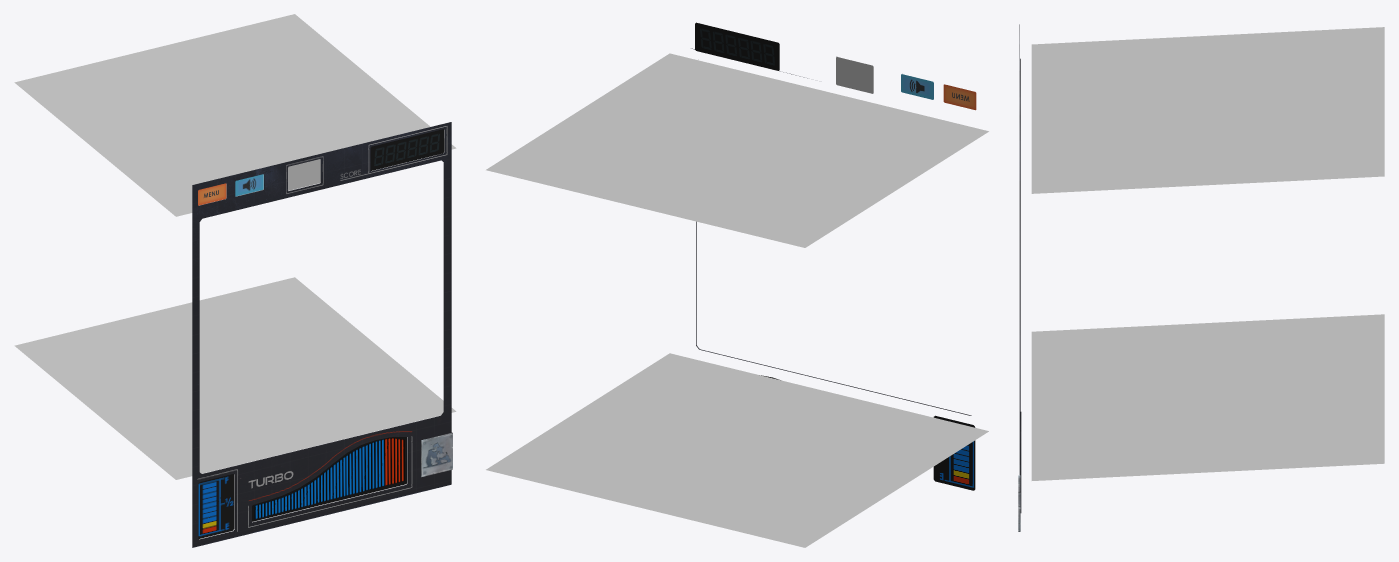
The model's file is TURBO POP GUI.fbx.
3 views of the same model, side by side, from view 1: azimuth 30°, elevation 25°; view 2: azimuth 150°, elevation 25°; view 3: azimuth 270°, elevation 25° (orthographic). The views are drawn at different scales.
Parts seen in each view (by area): view 1: EQ_Grids_2, EQ_Grids, FrontPanel, Tach_Meter, Fuel_Meter, Score_Meter, SB_Silvermetal, Warning_Lamp; view 2: EQ_Grids, EQ_Grids_2, Score_Meter, Fuel_Meter, Warning_Lamp, Menu_Button, Sound_Button; view 3: EQ_Grids_2, EQ_Grids, FrontPanel.
Boxes of the visible parts, x1,y1,x2,y2 form: EQ_Grids_2: (14,277,456,479); EQ_Grids: (14,14,456,216); FrontPanel: (192,122,451,547); Tach_Meter: (252,437,406,521); Fuel_Meter: (198,474,234,538); Score_Meter: (370,129,444,170); SB_Silvermetal: (421,432,452,477); Warning_Lamp: (288,159,320,190); EQ_Grids: (486,53,988,247); EQ_Grids_2: (486,353,988,547); Score_Meter: (695,22,779,70); Fuel_Meter: (933,415,975,490); Warning_Lamp: (836,57,873,93); Menu_Button: (943,84,976,110); Sound_Button: (901,74,933,99); EQ_Grids_2: (1031,314,1384,480); EQ_Grids: (1031,27,1384,193); FrontPanel: (1019,24,1021,512).
Size of the model in its own units: 668 by 825 by 692.
